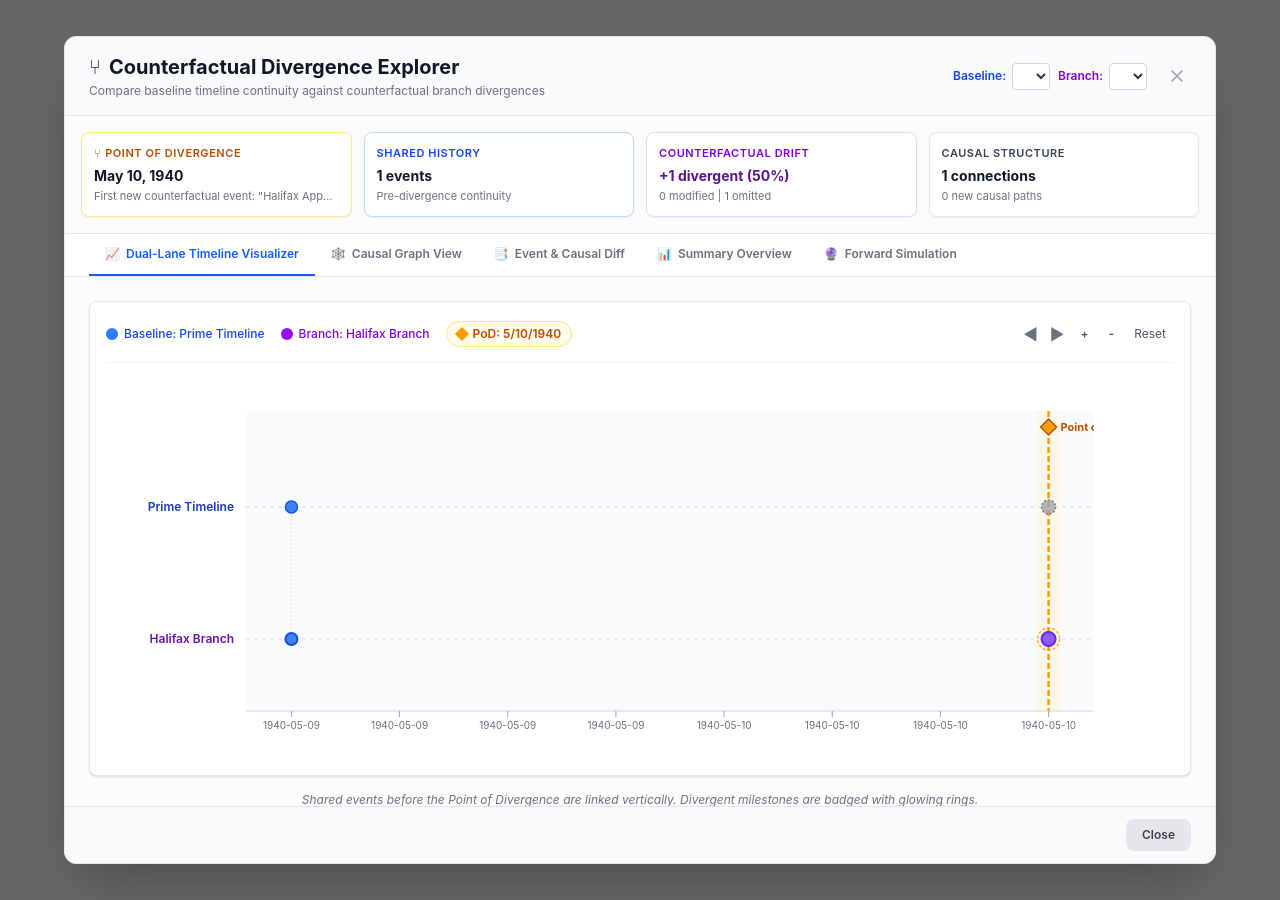
BranchComparisonModal › filters events in the Diff tab
Go to Diff tab
Click the button "📑 Event & Causal Diff": {"x": 559, "y": 255} [478, 234, 641, 276]
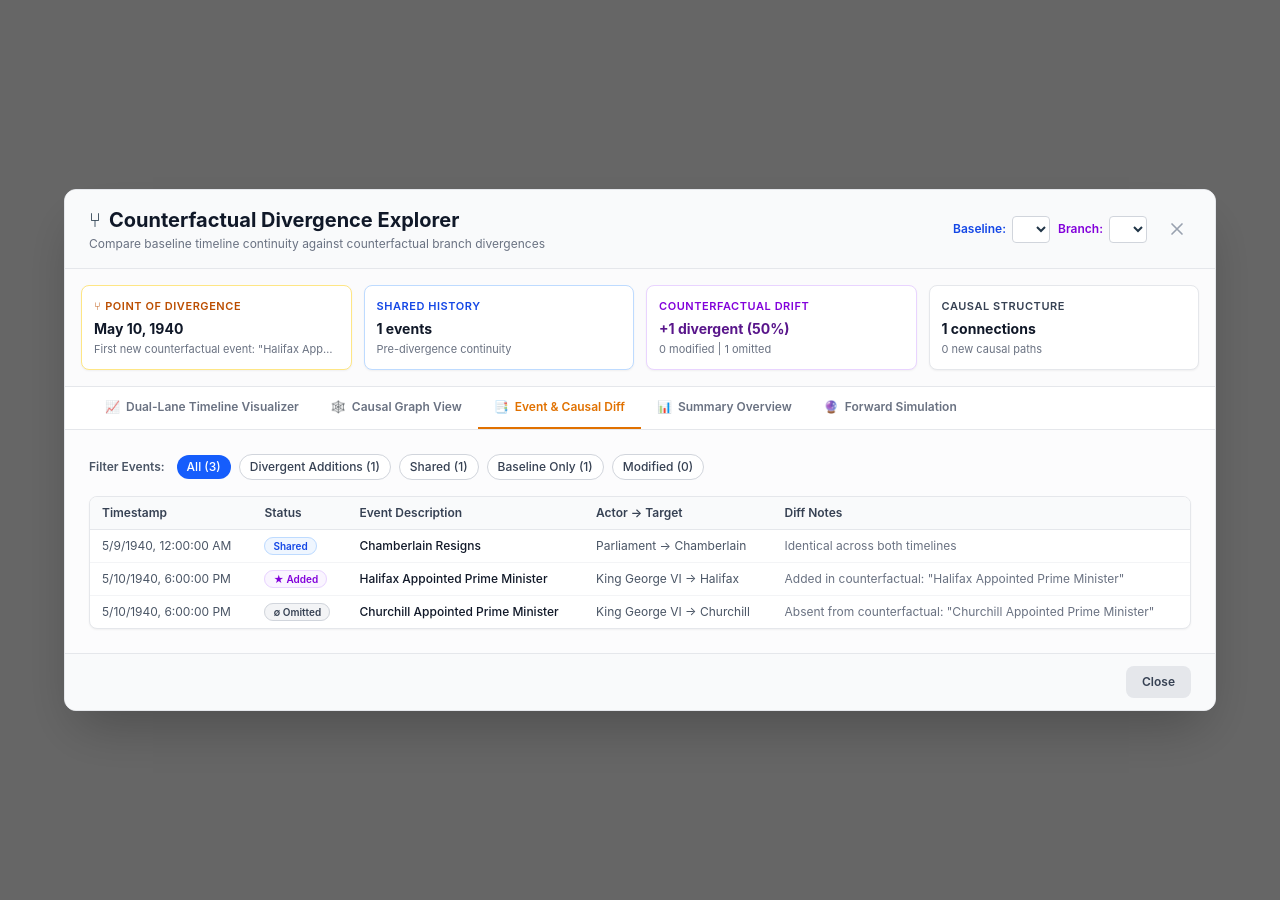
Filter to divergent additions only
Click the button "Divergent Additions (1)": {"x": 315, "y": 467} [239, 454, 391, 480]
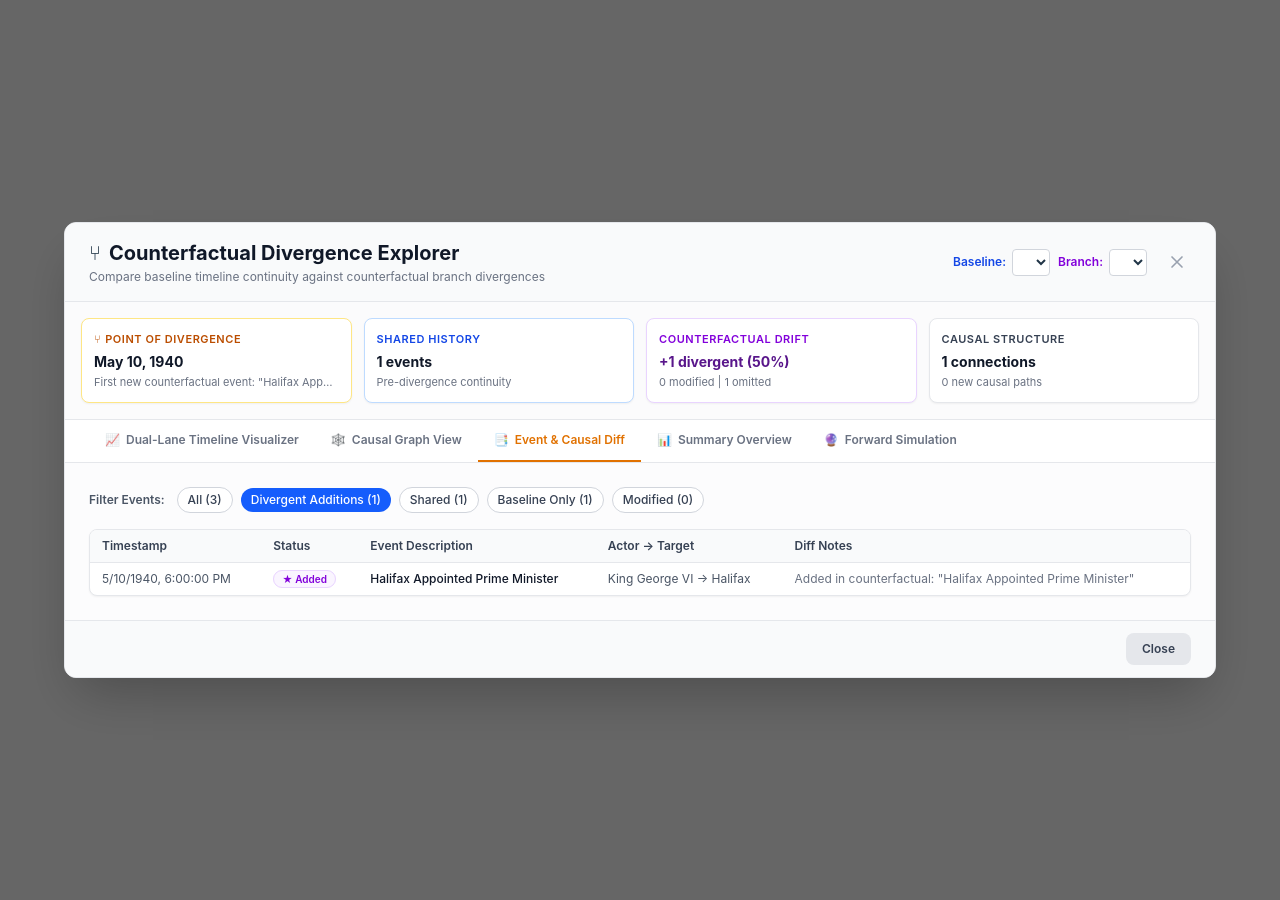
Now the text "Halifax Appointed Prime Minister" is shown, box [358, 562, 596, 595]
Now the text "Chamberlain Resigns" is gone
